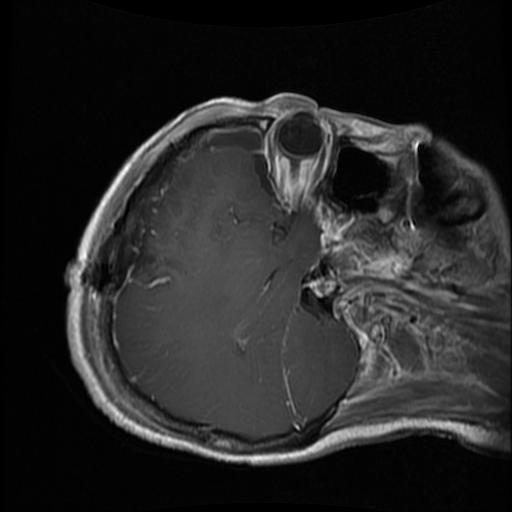glioma: (122, 222, 153, 292)
